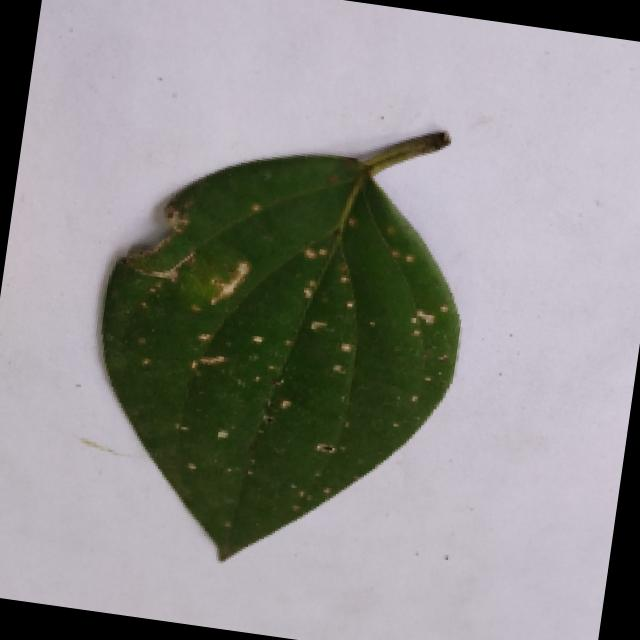pollu-disease: (51, 89, 484, 596)
